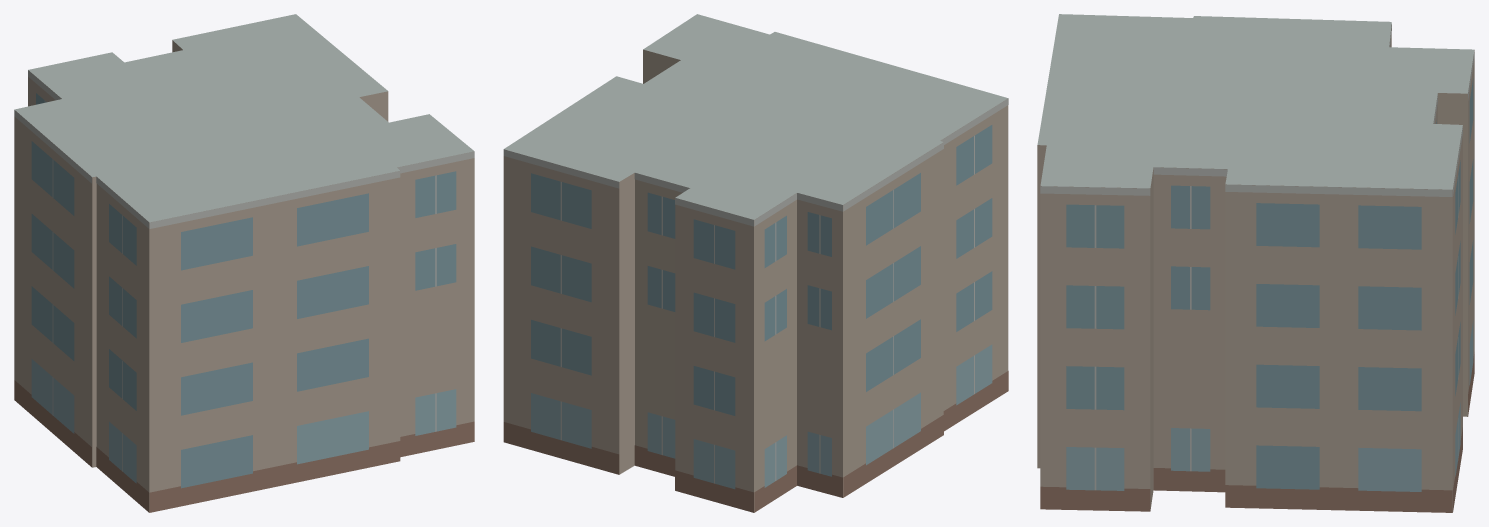
The model's file is survey-upis-32673111.glb.
3 renders of one model, left to right at view 1: azimuth 30°, elevation 25°; view 2: azimuth 150°, elevation 25°; view 3: azimuth 270°, elevation 25°, orthographic. The views are drawn at different scales.
Visible parts, largest first — view 1: survey-upis-32673111.tmp; view 2: survey-upis-32673111.tmp; view 3: survey-upis-32673111.tmp.
Boxes of the visible parts, x1=… form: survey-upis-32673111.tmp: x1=14, y1=14, x2=474, y2=512; survey-upis-32673111.tmp: x1=503, y1=14, x2=1008, y2=512; survey-upis-32673111.tmp: x1=1037, y1=14, x2=1474, y2=512.
Bounding box in the file's own units: 12.37 × 10.6 × 13.
